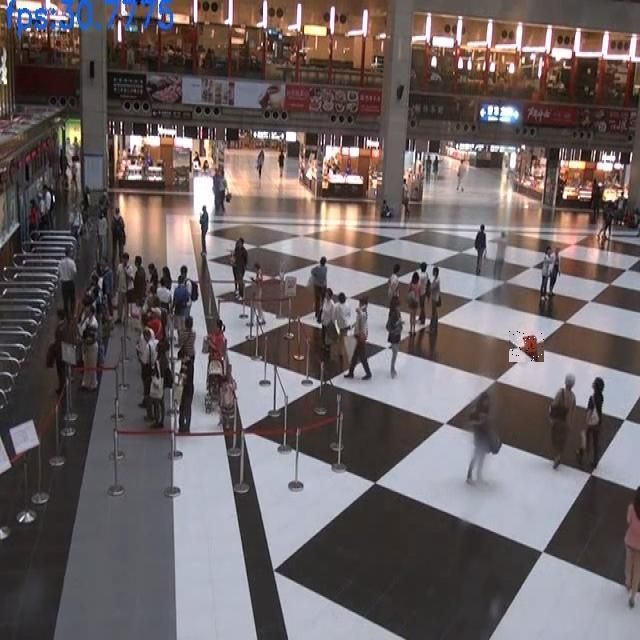abandoned-object: (509, 331, 544, 362)
